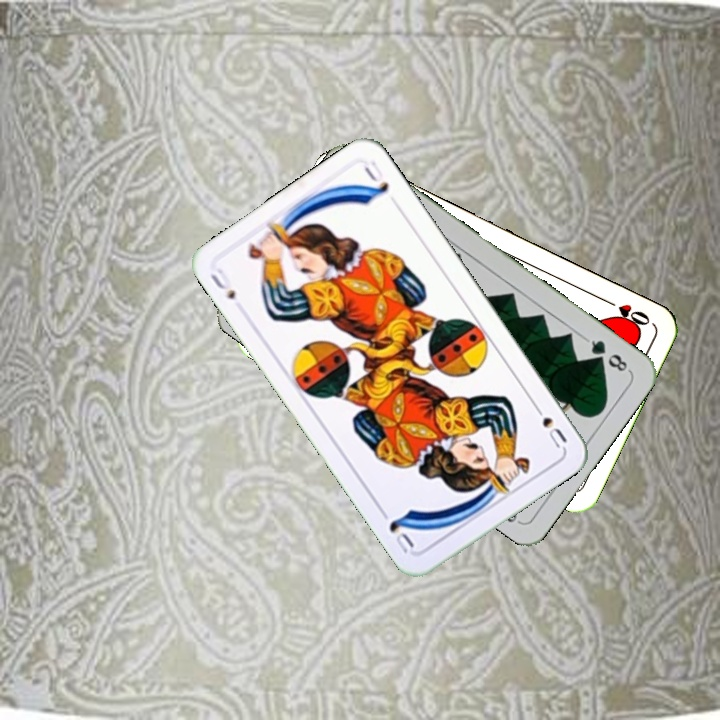G8: (581, 334, 632, 375)
HO: (599, 294, 653, 330)
SU: (528, 399, 570, 452), (206, 265, 239, 303)
